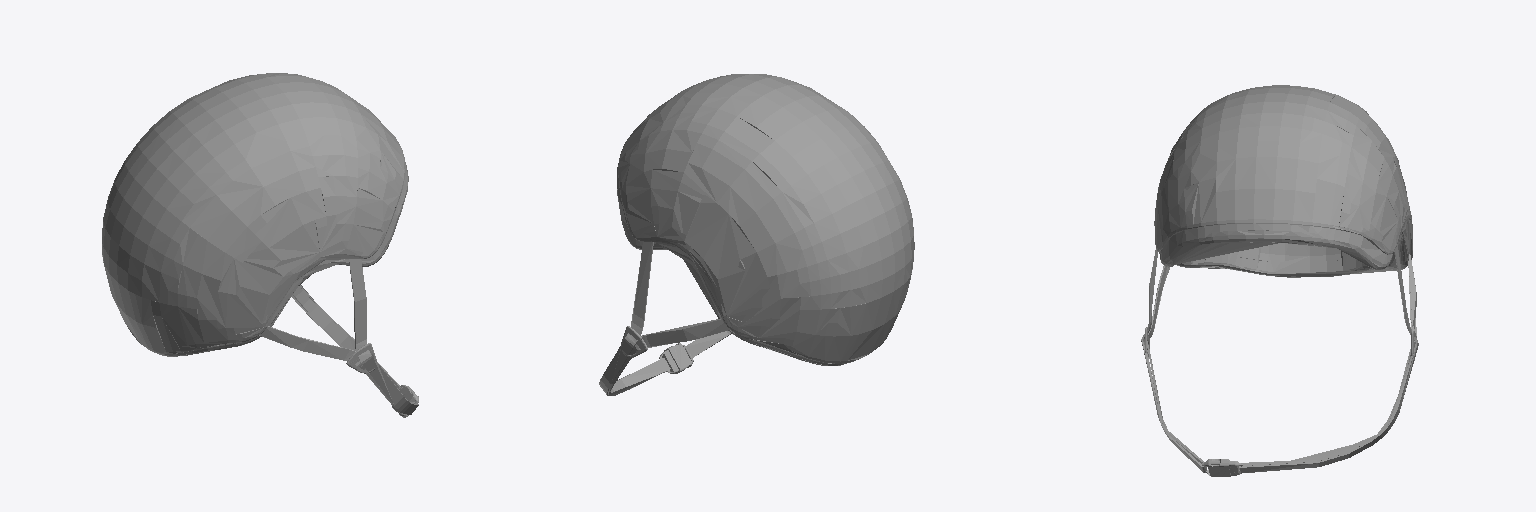
The model's file is helmet.obj.
The picture shows the model from 3 angles: view 1: azimuth 30°, elevation 25°; view 2: azimuth 150°, elevation 25°; view 3: azimuth 270°, elevation 25°; orthographic projection.
Parts seen in each view (by area): view 1: 10528_Skating_Helmet_v1_SG; view 2: 10528_Skating_Helmet_v1_SG; view 3: 10528_Skating_Helmet_v1_SG.
Part boxes in pixels (x1,y1,x2,y2): 10528_Skating_Helmet_v1_SG: (102,73,418,417); 10528_Skating_Helmet_v1_SG: (599,74,914,395); 10528_Skating_Helmet_v1_SG: (1141,85,1418,476).
Bounding box in the file's own units: 0.0325 × 0.0384 × 0.0293.